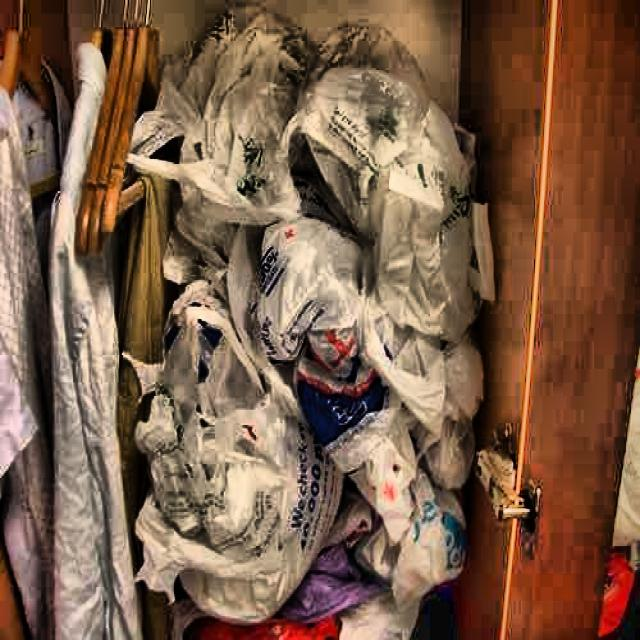Plastic: (122, 286, 335, 627), (298, 38, 482, 224), (358, 224, 499, 446)
